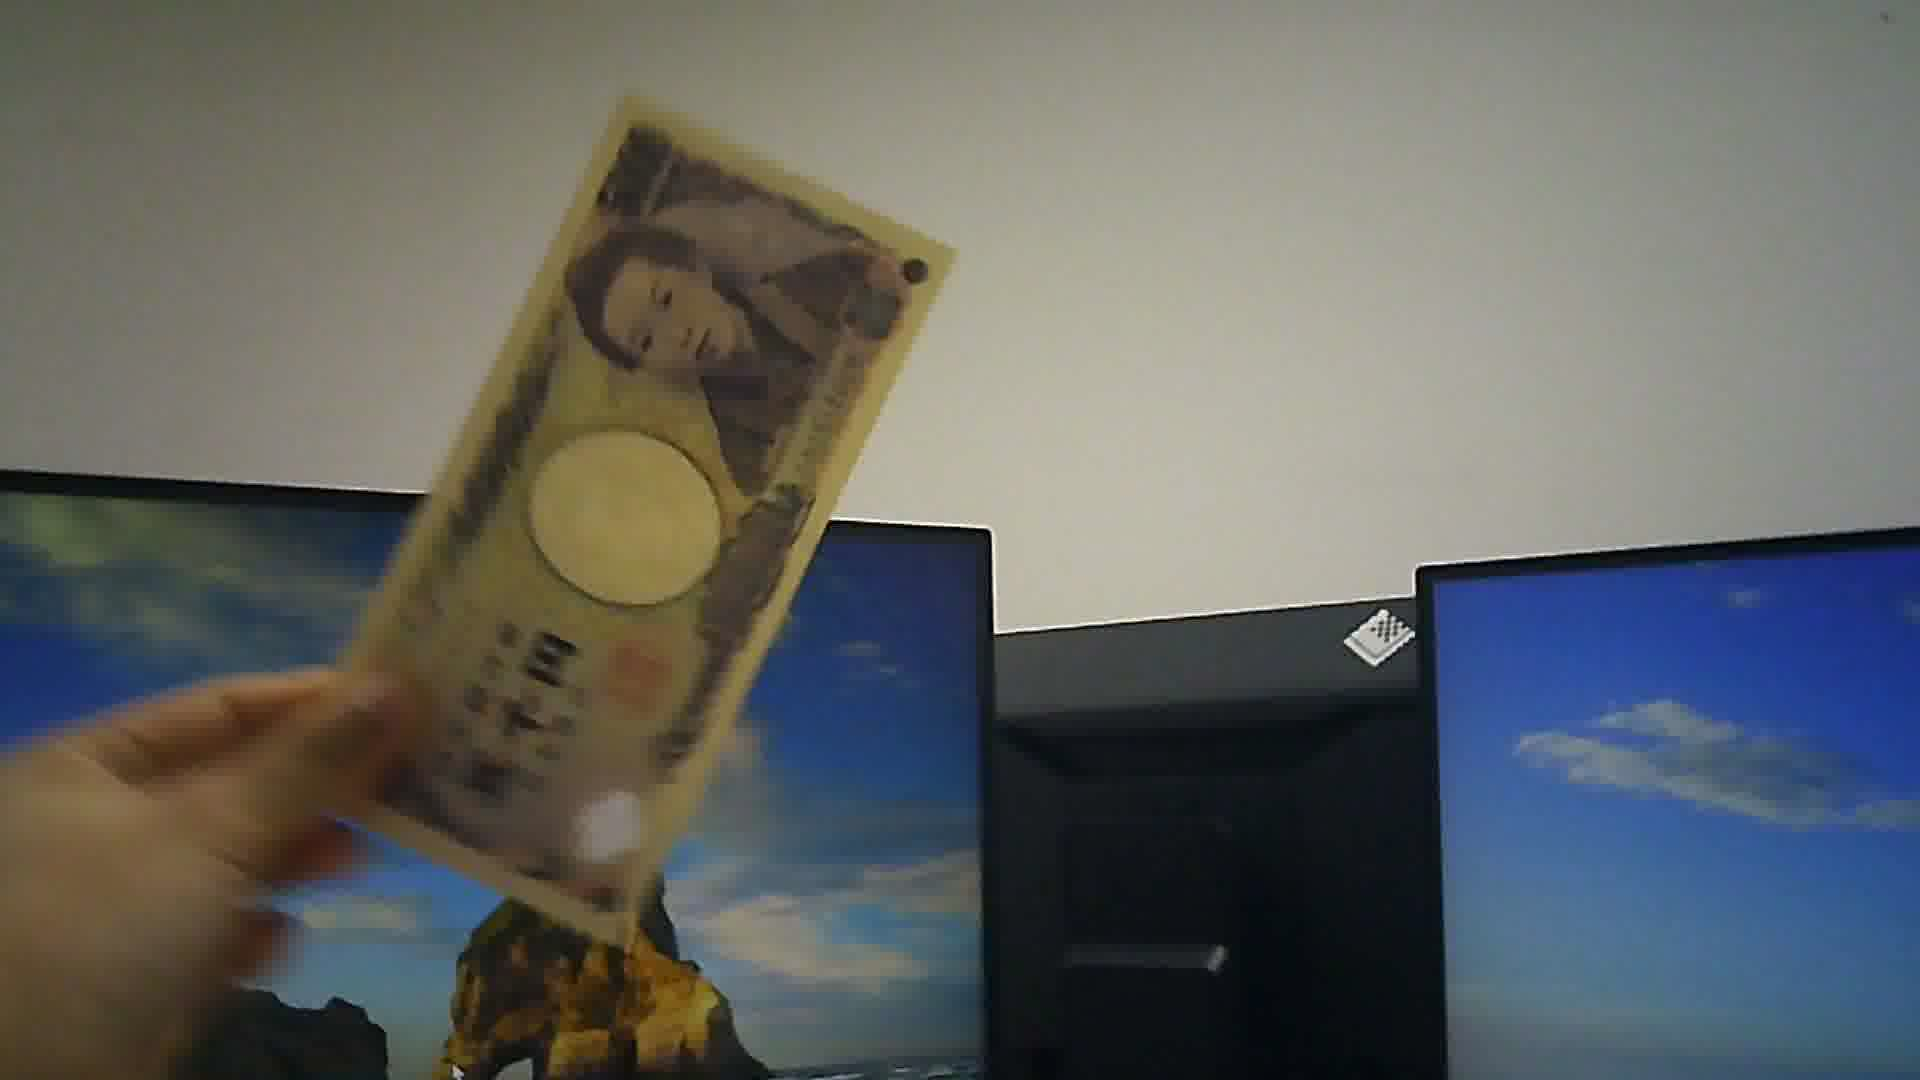5,000 Yen: (364, 76, 986, 942)
